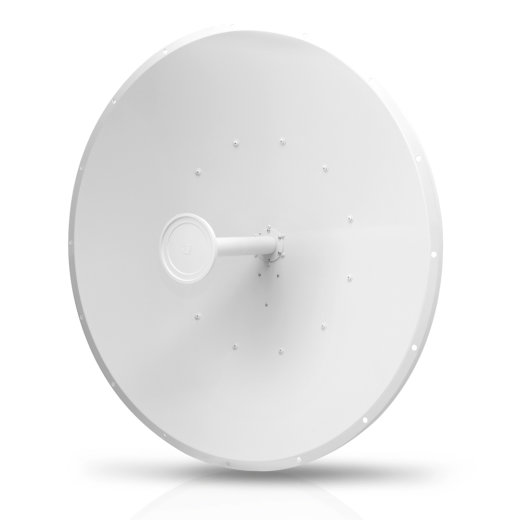ba: (66, 16, 451, 473)
